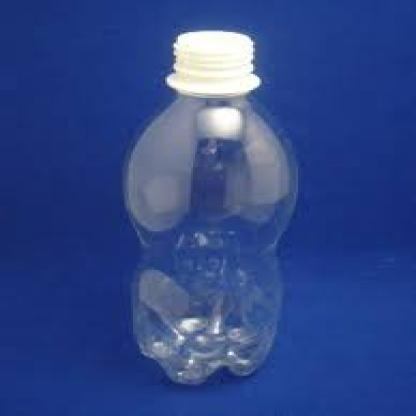trash: (124, 31, 296, 383)
